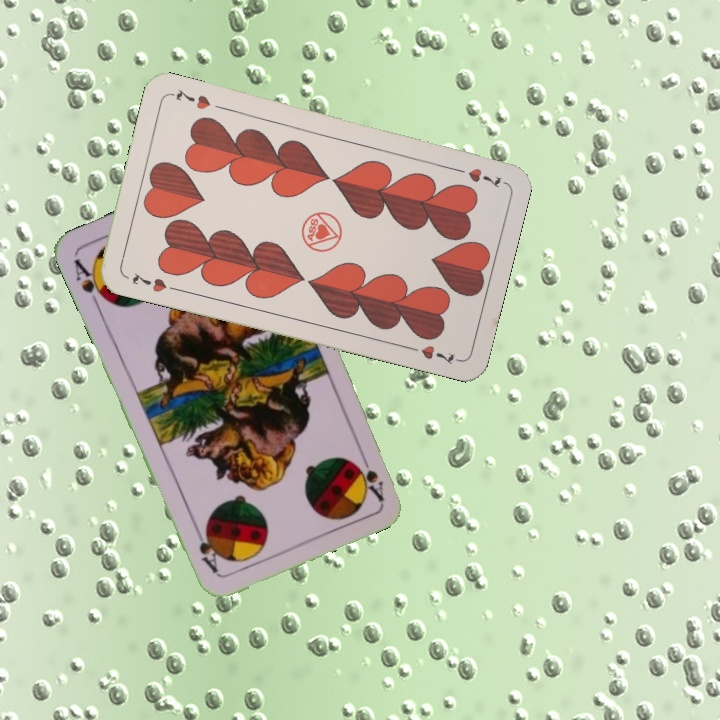H7: (448, 163, 507, 190), (128, 268, 181, 295)
SA: (70, 254, 111, 310), (355, 446, 387, 503)
